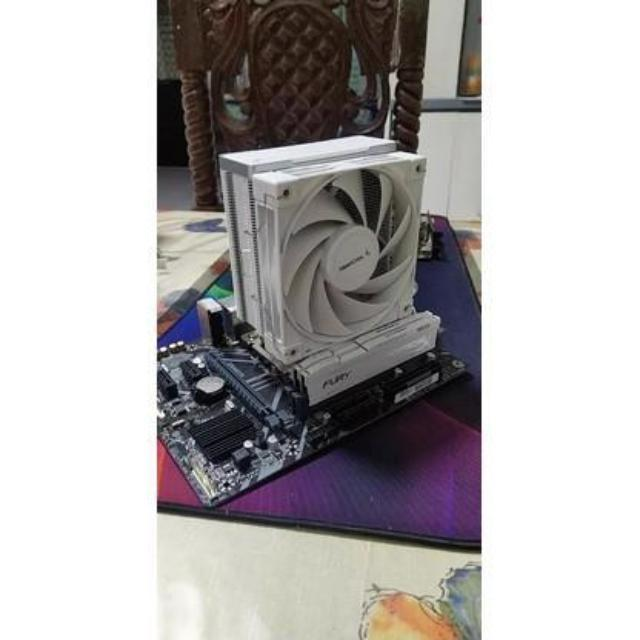CPU_Fan: (216, 138, 418, 360)
